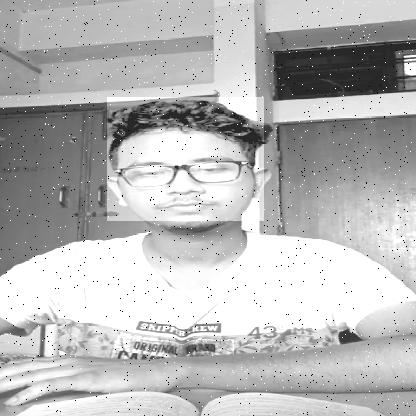Normal: (107, 97, 264, 221)
